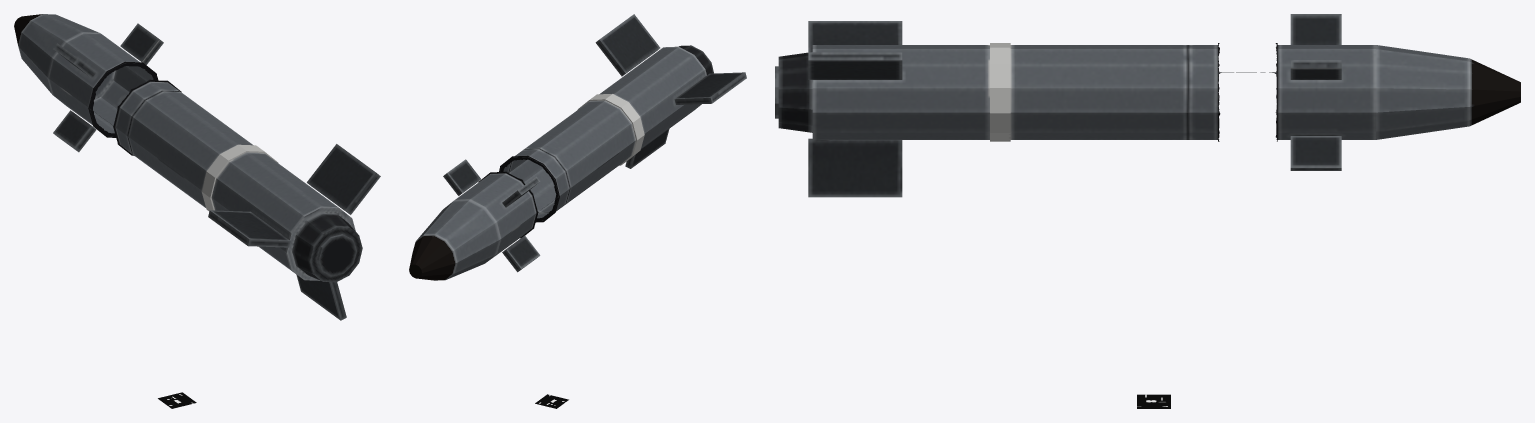
Rendered from chs_ir_sam.fbx.
3 views of the same model, side by side, from view 1: azimuth 30°, elevation 25°; view 2: azimuth 150°, elevation 25°; view 3: azimuth 270°, elevation 25° (orthographic). The views are drawn at different scales.
Visible parts, largest first — view 1: base_bar, base_glow_running_bar, emissive_probe; view 2: base_bar, base_glow_running_bar; view 3: base_bar, base_glow_running_bar.
Part boxes in pixels (<box>): base_bar: <box>14,14,380,320</box>; base_glow_running_bar: <box>201,144,278,211</box>; emissive_probe: <box>158,392,196,408</box>; base_bar: <box>409,14,746,280</box>; base_glow_running_bar: <box>577,94,644,165</box>; base_bar: <box>775,14,1520,197</box>; base_glow_running_bar: <box>990,43,1010,141</box>.
Size of the model in its own units: 106 by 246 by 437.
Materials: 2 (2 with a texture image).
